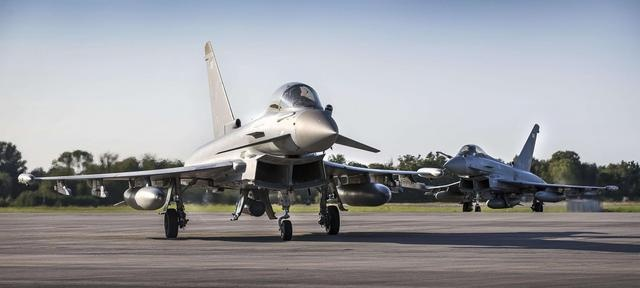airplane: (9, 41, 431, 240), (381, 120, 623, 211)
